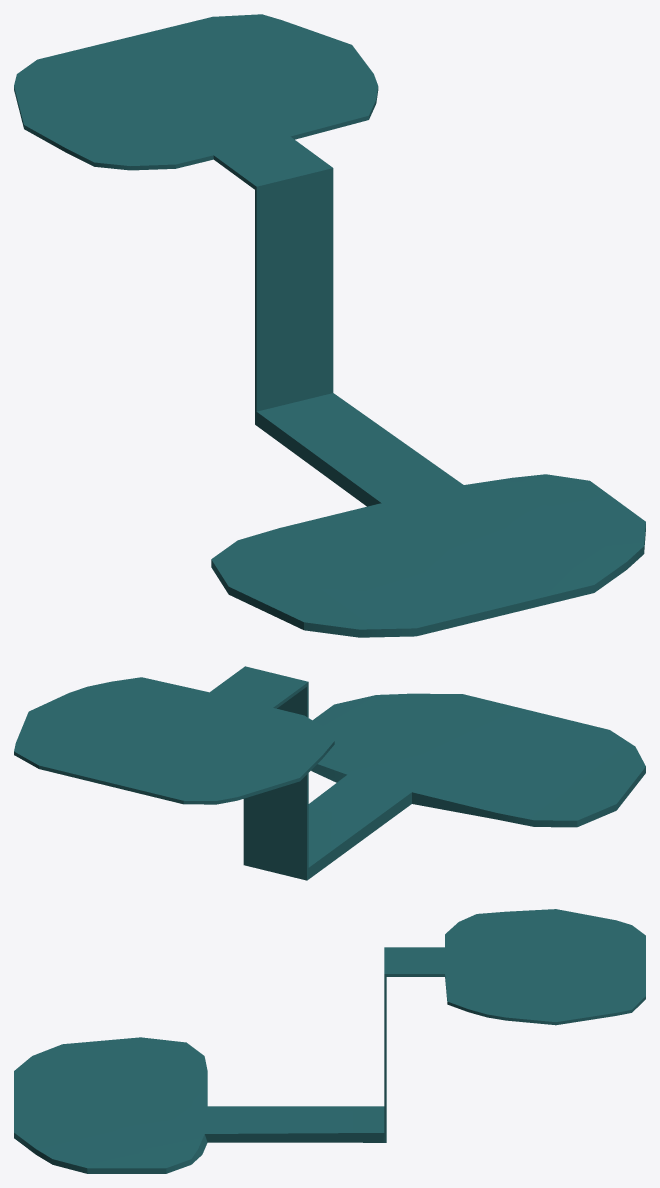
File: Water.fbx
3 renders of one model, top to bottom at view 1: azimuth 30°, elevation 25°; view 2: azimuth 150°, elevation 25°; view 3: azimuth 270°, elevation 25°, orthographic. The views are drawn at different scales.
Visible parts, largest first — view 1: WaterFall; view 2: WaterFall; view 3: WaterFall.
Part boxes in pixels (x1=…): WaterFall: x1=14, y1=14, x2=645, y2=637; WaterFall: x1=14, y1=666, x2=645, y2=880; WaterFall: x1=14, y1=909, x2=645, y2=1173.
Size of the model in its own units: 330 by 181 by 613.
